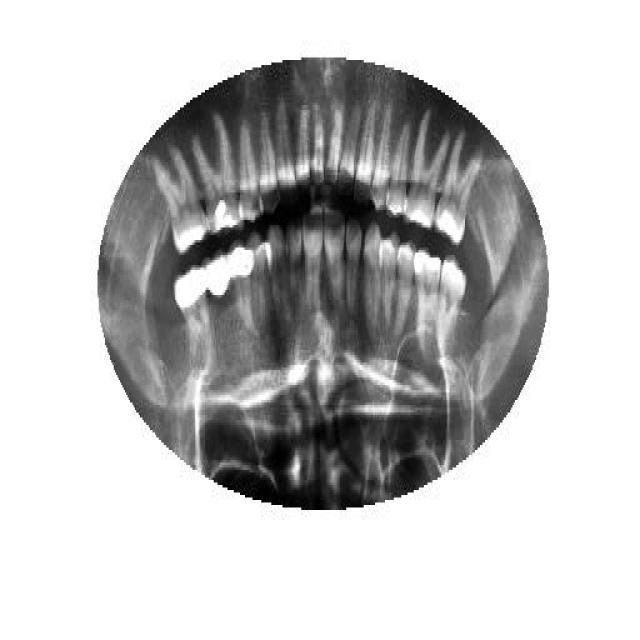Fillings: (192, 115, 242, 235), (174, 268, 210, 360), (230, 235, 255, 350), (202, 250, 230, 330)
